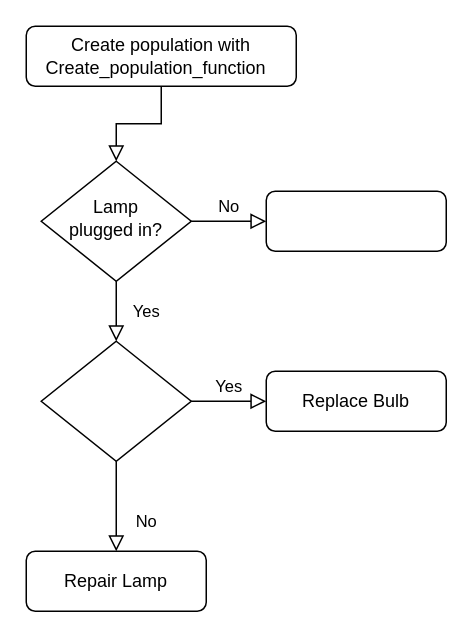
Some shapes in this 473 by 638 pixel diagram are drawn without their labels. The box of each missing label's shape, as (x1, y1, x2, y2) in pixels:
Bulb burned out?: (40, 340, 191, 461)
Plug in lamp: (265, 190, 446, 251)
